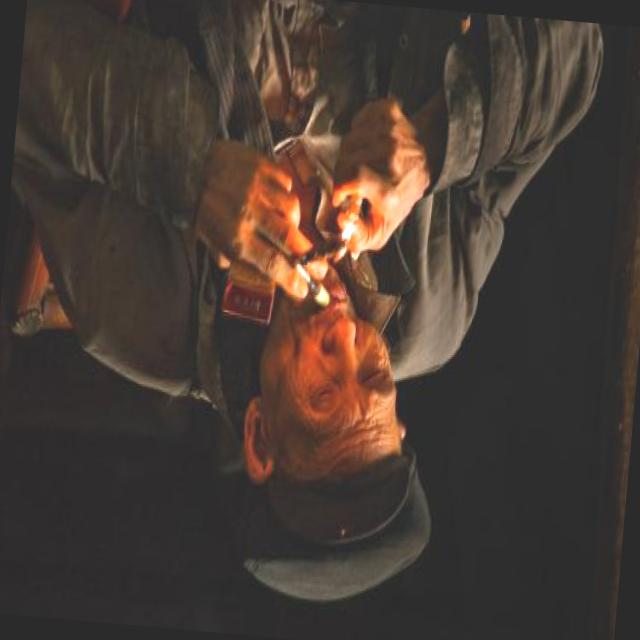smoke: (282, 250, 349, 316)
